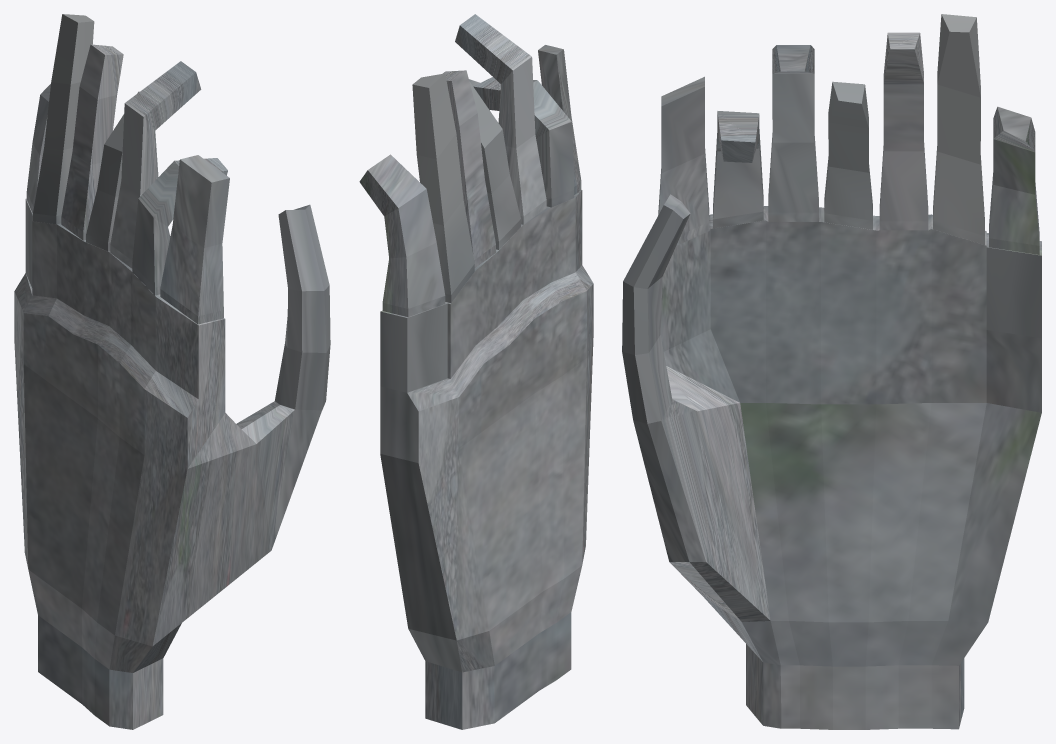
File: weirdhand.fbx
3 renders of one model, left to right at view 1: azimuth 30°, elevation 25°; view 2: azimuth 150°, elevation 25°; view 3: azimuth 270°, elevation 25°, orthographic. The views are drawn at different scales.
Parts seen in each view (by area): view 1: hand; view 2: hand; view 3: hand.
Part boxes in pixels (left/top/right/bottom): hand: left=14, top=14, right=330, bottom=729; hand: left=359, top=14, right=593, bottom=729; hand: left=622, top=14, right=1041, bottom=729.
Size of the model in its own units: 112 by 409 by 220.
